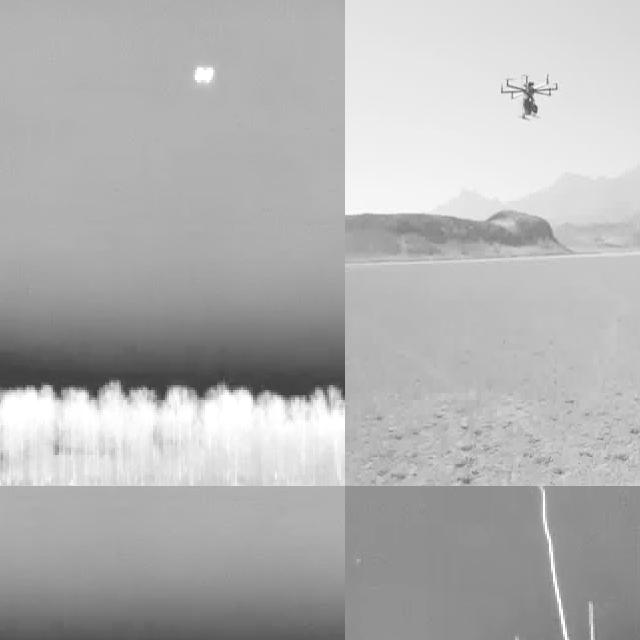0: (345, 549, 369, 576)
1: (185, 64, 221, 94)
drone: (498, 71, 560, 120)
